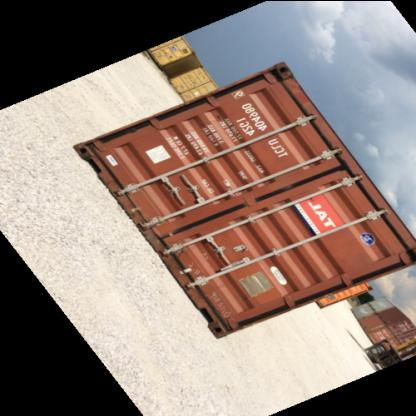Damage: (151, 212, 187, 246)
